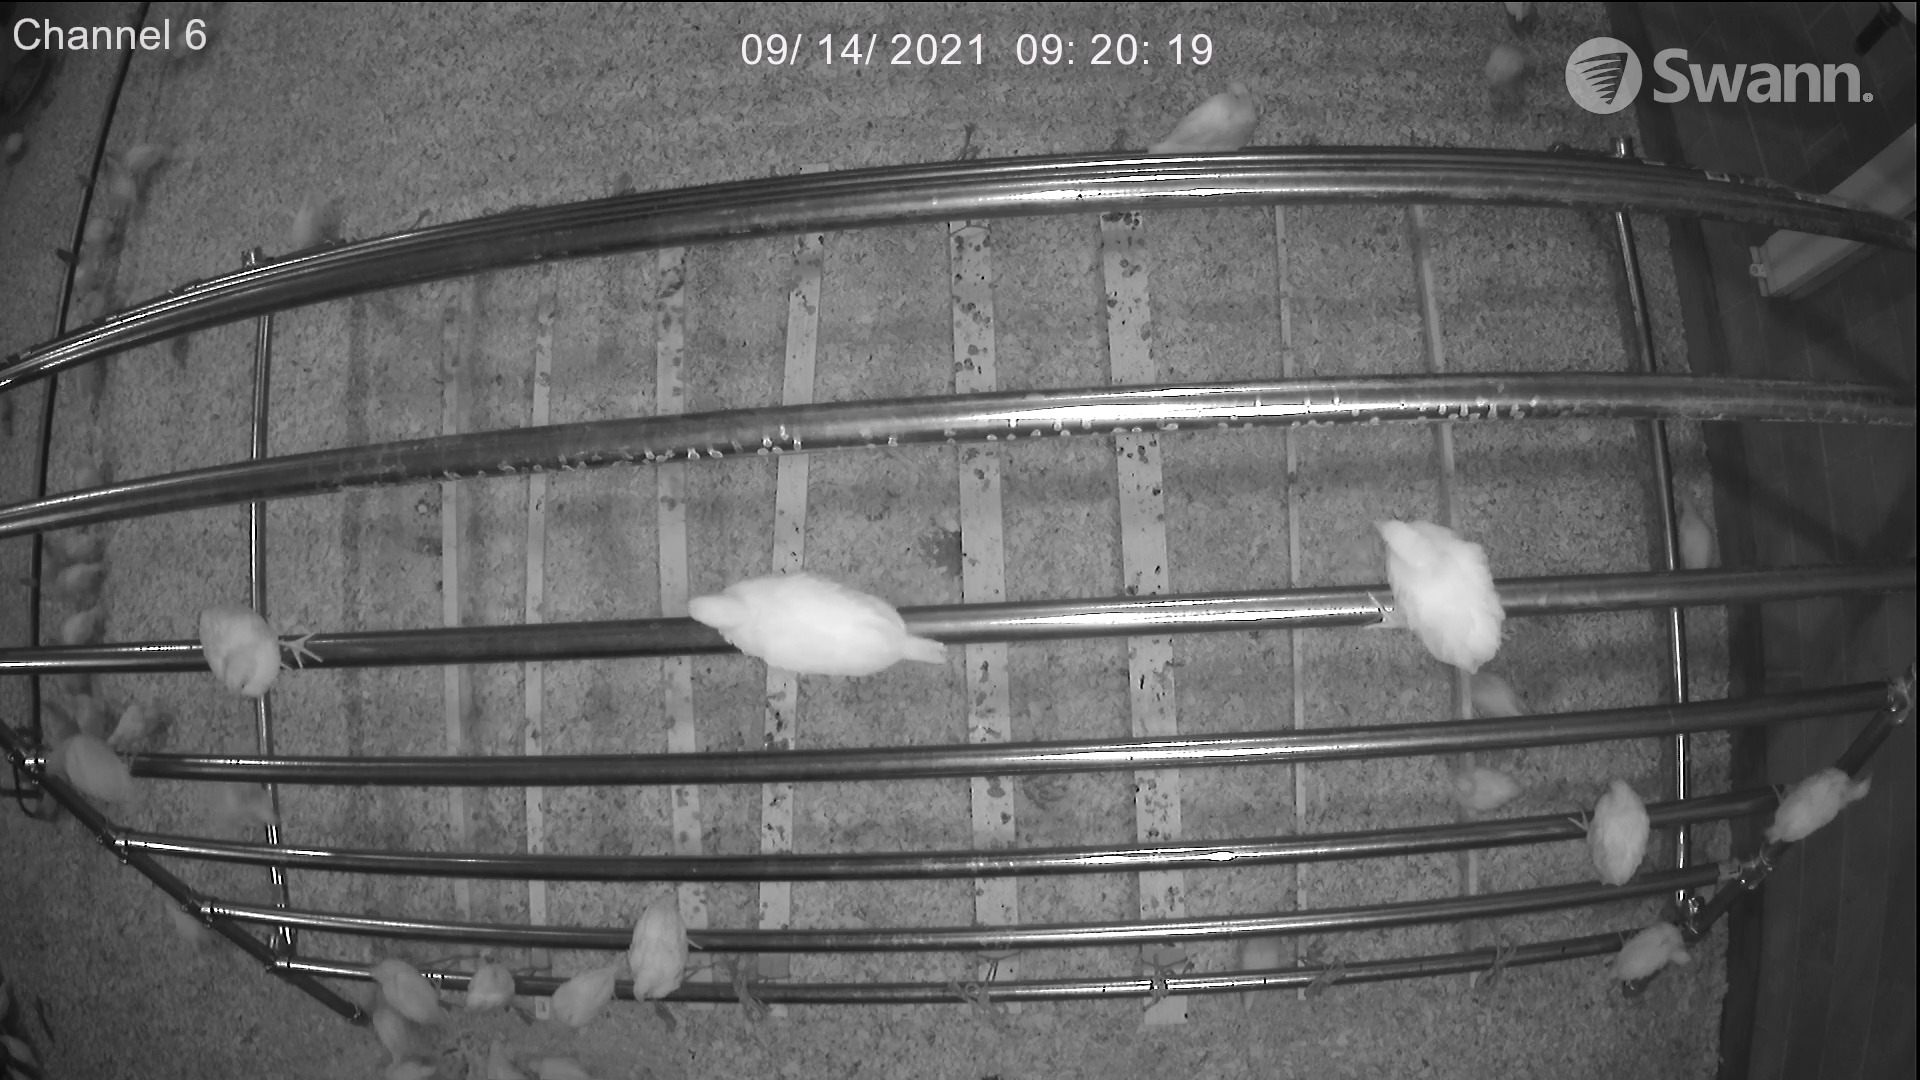Perching: (676, 556, 967, 686), (1346, 495, 1528, 682), (171, 589, 334, 709), (26, 719, 157, 816), (1763, 752, 1883, 857), (1563, 770, 1658, 895), (622, 889, 703, 1006), (353, 945, 462, 1033), (1606, 911, 1706, 1002), (537, 957, 609, 1029), (465, 957, 522, 1025)
